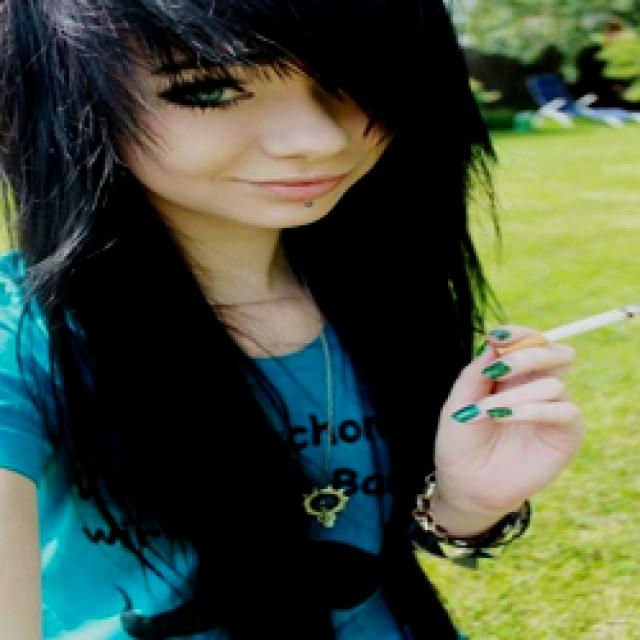Smooking: (484, 299, 640, 357)
